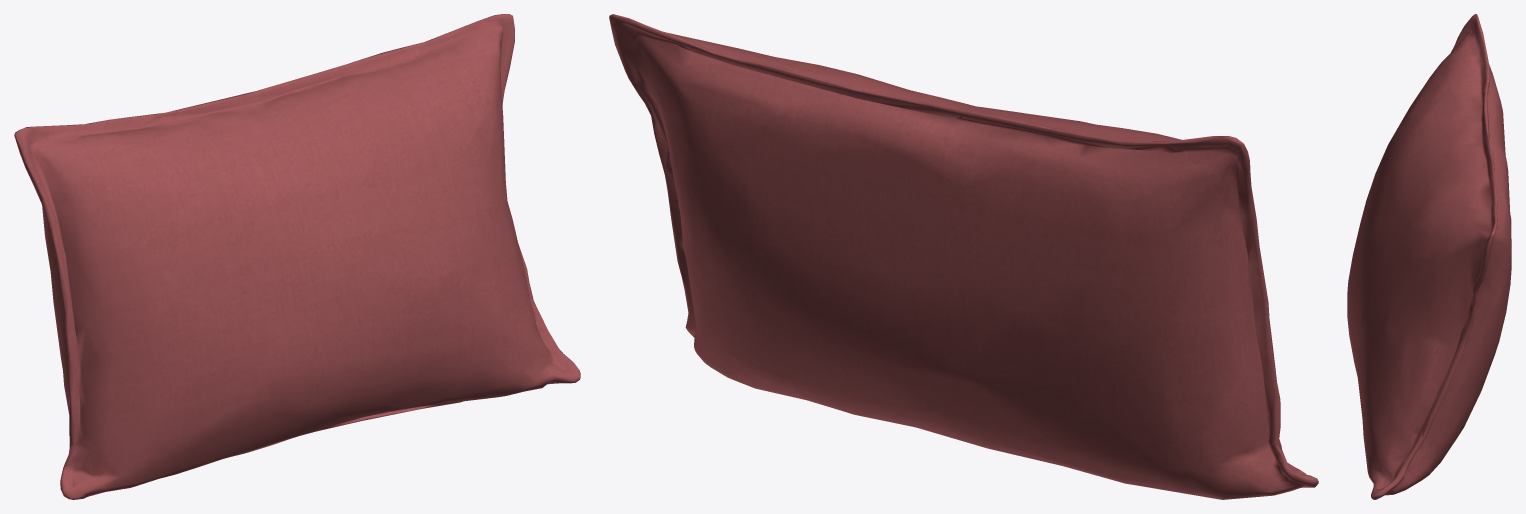
File: Lagerpoppel00561816-scene-512.glb
3 renders of one model, left to right at view 1: azimuth 30°, elevation 25°; view 2: azimuth 150°, elevation 25°; view 3: azimuth 270°, elevation 25°, orthographic. The views are drawn at different scales.
Parts seen in each view (by area): view 1: PQPM1000; view 2: PQPM1000; view 3: PQPM1000.
Boxes of the visible parts, x1,y1,x2,y2 form: PQPM1000: [14, 14, 580, 499]; PQPM1000: [609, 14, 1318, 499]; PQPM1000: [1347, 14, 1511, 499].
Size of the model in its own units: 0.5887 by 0.3601 by 0.1915.
Materials: 1 (1 with a texture image).
